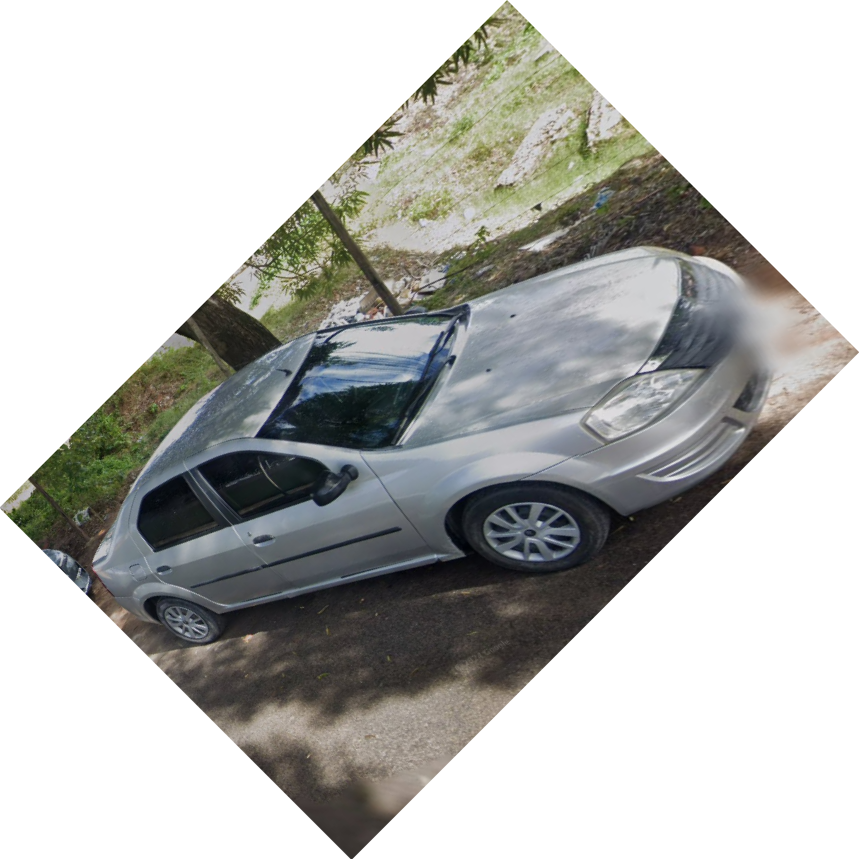car: (87, 246, 771, 647)
